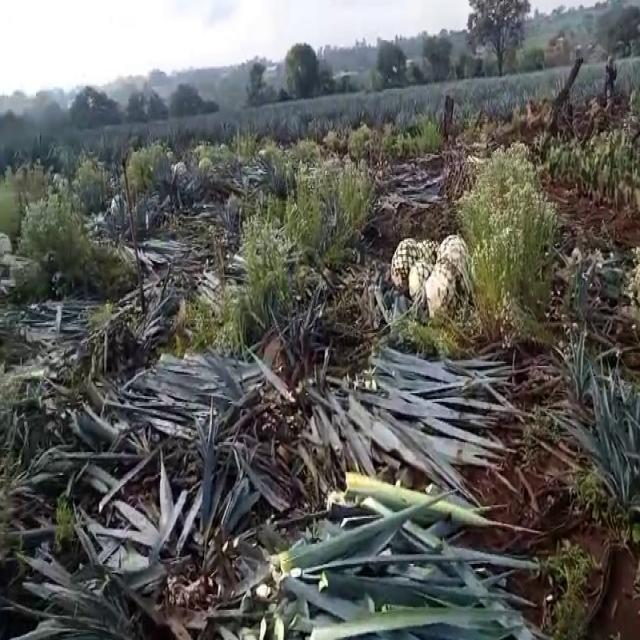agave: (390, 237, 421, 297), (437, 225, 468, 284), (424, 263, 454, 318), (409, 257, 435, 303), (416, 230, 444, 266)
